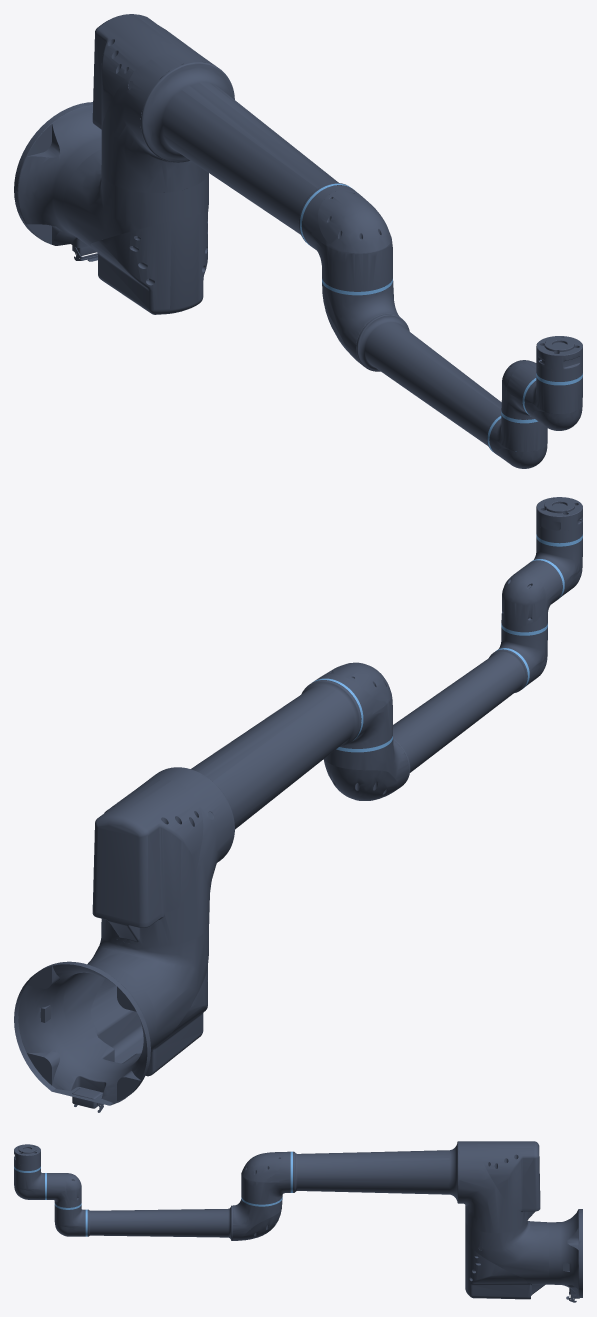
File: 35kg-6axis-model.glb
The picture shows the model from 3 angles, top to bottom: view 1: azimuth 30°, elevation 25°; view 2: azimuth 150°, elevation 25°; view 3: azimuth 270°, elevation 25°; orthographic projection. The views are drawn at different scales.
Visible parts, largest first — view 1: Link2, Link1, Link3, Base, Link5, Link6, Link4; view 2: Link2, Link1, Link3, Base, Link4, Link6, Link5; view 3: Link2, Link3, Link1, Base, Link4, Link5, Link6.
Part boxes in pixels (left/top/right/bottom): Link2: left=92, top=14, right=392, bottom=295; Link1: left=63, top=149, right=208, bottom=314; Link3: left=322, top=281, right=547, bottom=468; Base: left=14, top=102, right=101, bottom=261; Link5: left=524, top=373, right=582, bottom=430; Link6: left=536, top=336, right=582, bottom=381; Link4: left=501, top=360, right=555, bottom=419; Link2: left=92, top=662, right=392, bottom=946; Link1: left=63, top=923, right=208, bottom=1076; Link3: left=323, top=623, right=547, bottom=800; Base: left=14, top=961, right=156, bottom=1112; Link4: left=501, top=559, right=564, bottom=632; Link6: left=536, top=497, right=582, bottom=542; Link5: left=534, top=534, right=582, bottom=597; Link2: left=241, top=1141, right=540, bottom=1233; Link3: left=54, top=1199, right=282, bottom=1240; Link1: left=465, top=1221, right=548, bottom=1299; Base: left=549, top=1209, right=582, bottom=1302; Link4: left=45, top=1173, right=81, bottom=1207; Link5: left=14, top=1166, right=44, bottom=1199; Link6: left=14, top=1144, right=40, bottom=1170.
Bounding box in the file's own units: 0.4 × 0.7674 × 2.55.
